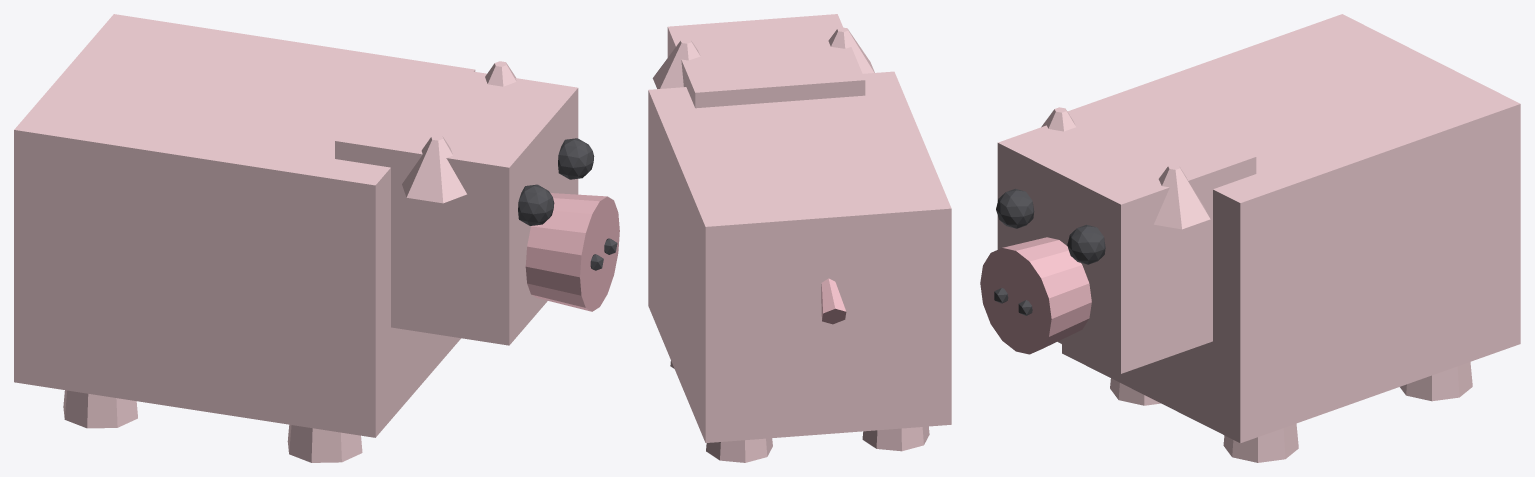
Rendered from cerdo.glb.
3 renders of one model, left to right at view 1: azimuth 30°, elevation 25°; view 2: azimuth 150°, elevation 25°; view 3: azimuth 270°, elevation 25°, orthographic. The views are drawn at different scales.
Visible parts, largest first — view 1: Cerdo; view 2: Cerdo; view 3: Cerdo.
Part boxes in pixels (bbox=[...]): Cerdo: bbox=[14, 14, 619, 462]; Cerdo: bbox=[648, 14, 951, 462]; Cerdo: bbox=[980, 14, 1520, 462].
Size of the model in its own units: 1.97 by 1.36 by 2.14.
